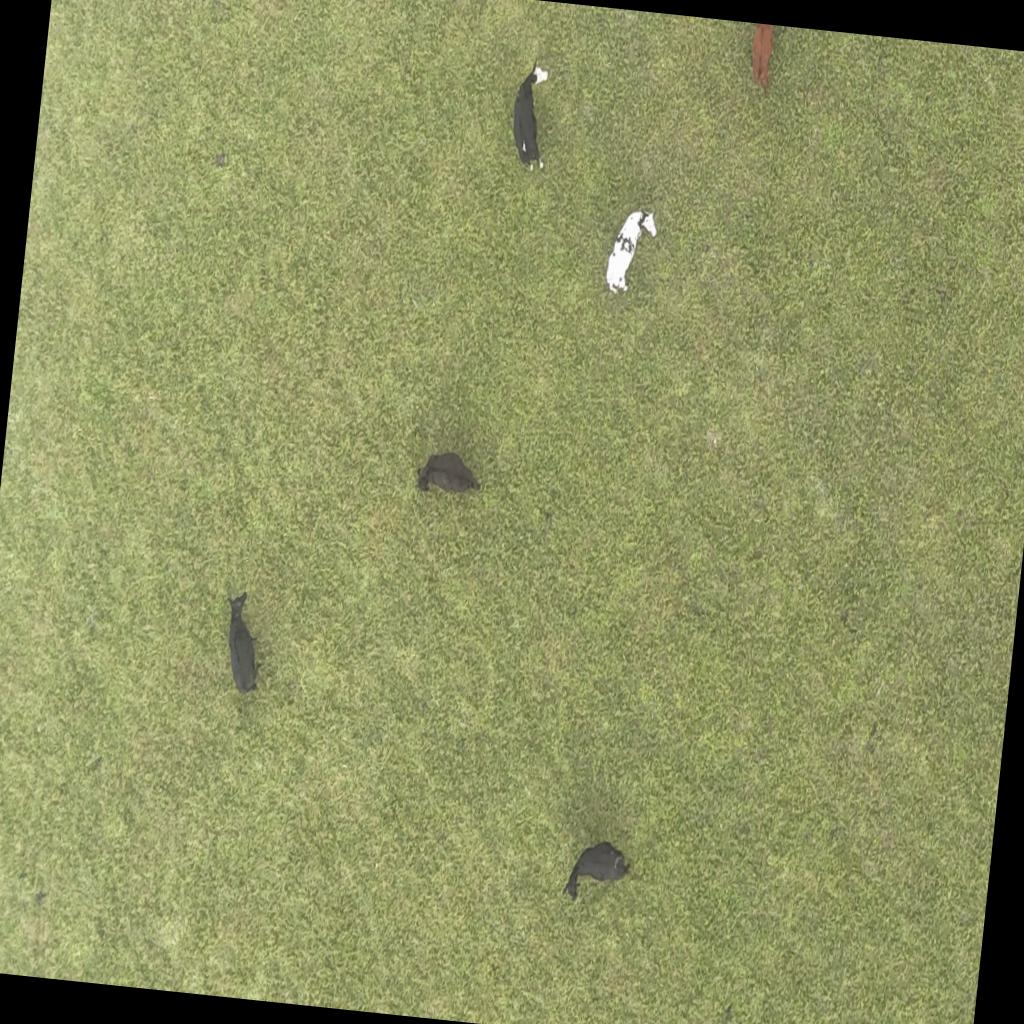cow: (597, 197, 661, 302), (506, 56, 558, 178), (216, 588, 270, 697), (559, 836, 635, 910), (414, 444, 486, 501), (742, 22, 780, 94)
